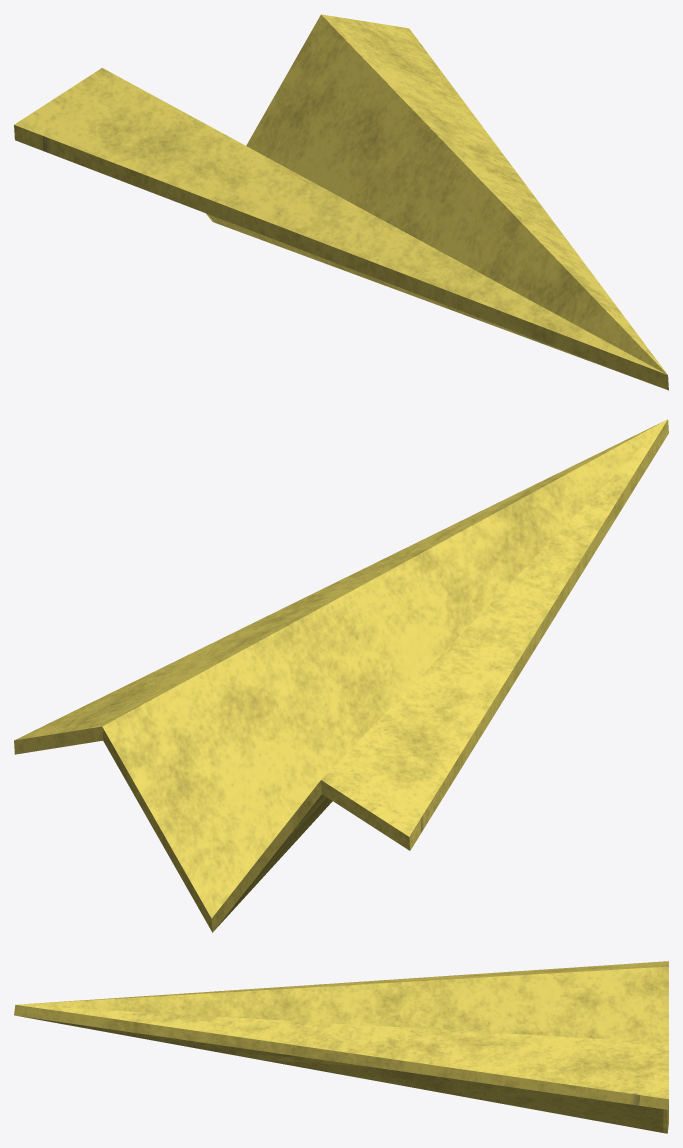
Rendered from Paper Plane Normal.fbx.
3 views of the same model, one above another, from view 1: azimuth 30°, elevation 25°; view 2: azimuth 150°, elevation 25°; view 3: azimuth 270°, elevation 25° (orthographic). The views are drawn at different scales.
Visible parts, largest first — view 1: V2 Vliegtuigje Papier.001; view 2: V2 Vliegtuigje Papier.001; view 3: V2 Vliegtuigje Papier.001.
Boxes of the visible parts, left/top/right/bottom form: V2 Vliegtuigje Papier.001: left=14, top=14, right=668, bottom=390; V2 Vliegtuigje Papier.001: left=14, top=419, right=668, bottom=932; V2 Vliegtuigje Papier.001: left=14, top=961, right=668, bottom=1133.
Bounding box in the file's own units: 100 × 200 × 43.58.
